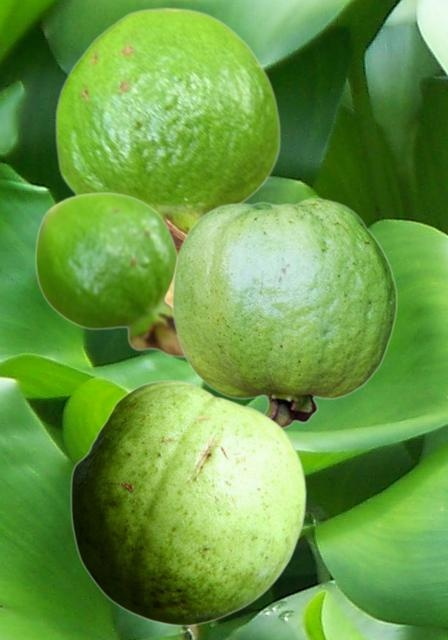guava: (54, 6, 280, 302), (70, 380, 305, 625), (171, 198, 397, 428), (34, 191, 183, 357)
